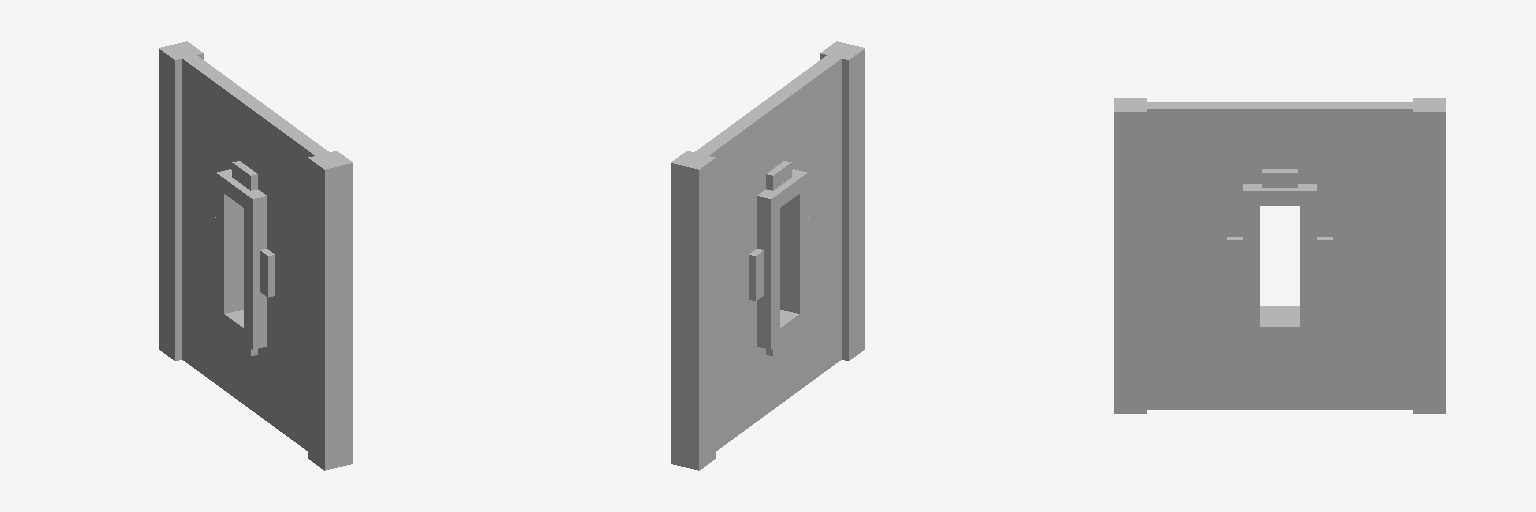
The model's file is wall-window-stone.obj.
The picture shows the model from 3 angles: view 1: azimuth 30°, elevation 25°; view 2: azimuth 150°, elevation 25°; view 3: azimuth 270°, elevation 25°; orthographic projection.
Visible parts, largest first — view 1: wall-window-stone; view 2: wall-window-stone; view 3: wall-window-stone.
Part boxes in pixels (left/top/right/bottom): wall-window-stone: left=159, top=41, right=352, bottom=470; wall-window-stone: left=671, top=41, right=864, bottom=470; wall-window-stone: left=1114, top=98, right=1445, bottom=413.
Size of the model in its own units: 0.15 by 1 by 1.